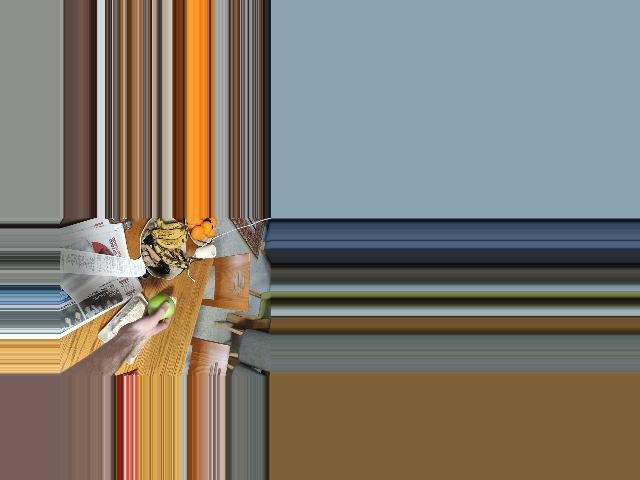apple: (148, 294, 174, 321)
